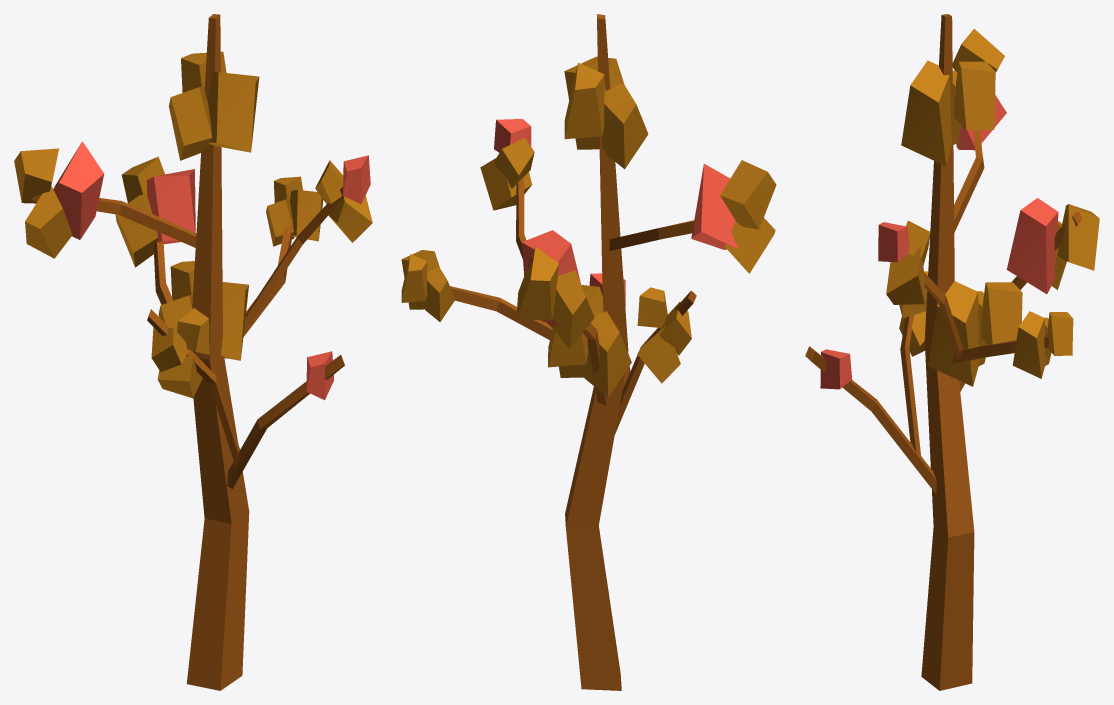
File: Gator Siege_plant1.fbx
The picture shows the model from 3 angles, left to right: view 1: azimuth 30°, elevation 25°; view 2: azimuth 150°, elevation 25°; view 3: azimuth 270°, elevation 25°; orthographic projection.
Visible parts, largest first — view 1: plant1; view 2: plant1; view 3: plant1.
Boxes of the visible parts, box(x1,y1,x2,y2) form: plant1: box(14, 14, 372, 690); plant1: box(401, 14, 776, 690); plant1: box(805, 14, 1099, 690).
Size of the model in its own units: 3.31 by 2.51 by 6.25.
